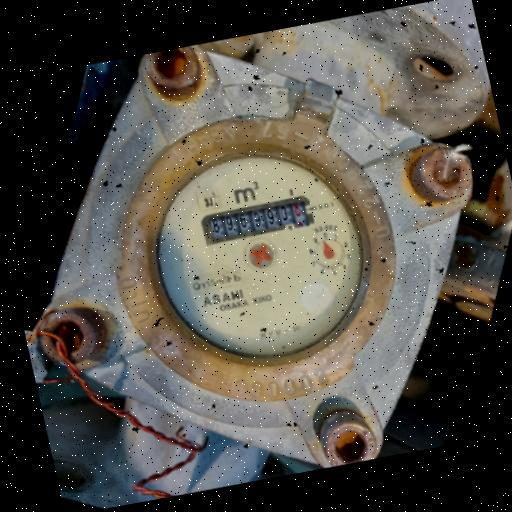0: (278, 202, 292, 224)
6: (237, 211, 250, 232)
8: (209, 215, 225, 238), (291, 200, 305, 226)
9: (223, 214, 237, 235), (250, 208, 264, 229), (264, 205, 278, 226)
border_water_meter_number: (198, 193, 317, 245)
